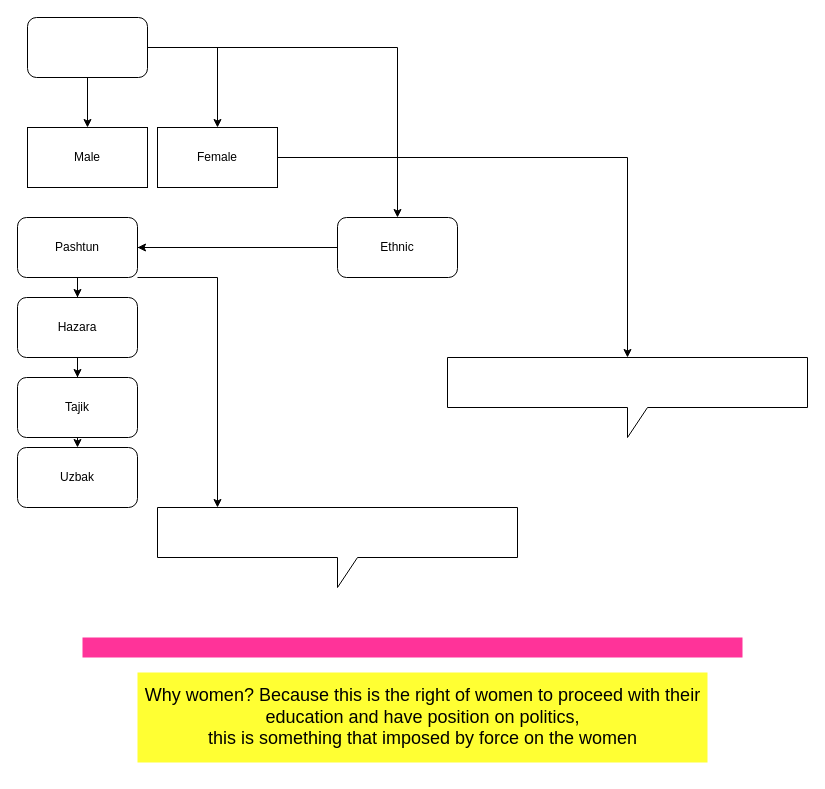
The diagram is 825 pixels wide and 789 high, and some of its shapes have lost their labels. Here are the shapes that lost their labels. From the top down, the box of each, then its label:
(26, 16, 148, 78): Gender
(446, 356, 808, 438): What is women responses to the Taliban policies?
(156, 506, 518, 588): What is pashtun responses to the Taliban policies?
(82, 637, 742, 657): Why I choose Pashtuns, not other ethnics? Because Taliban are largely Pashtuns
